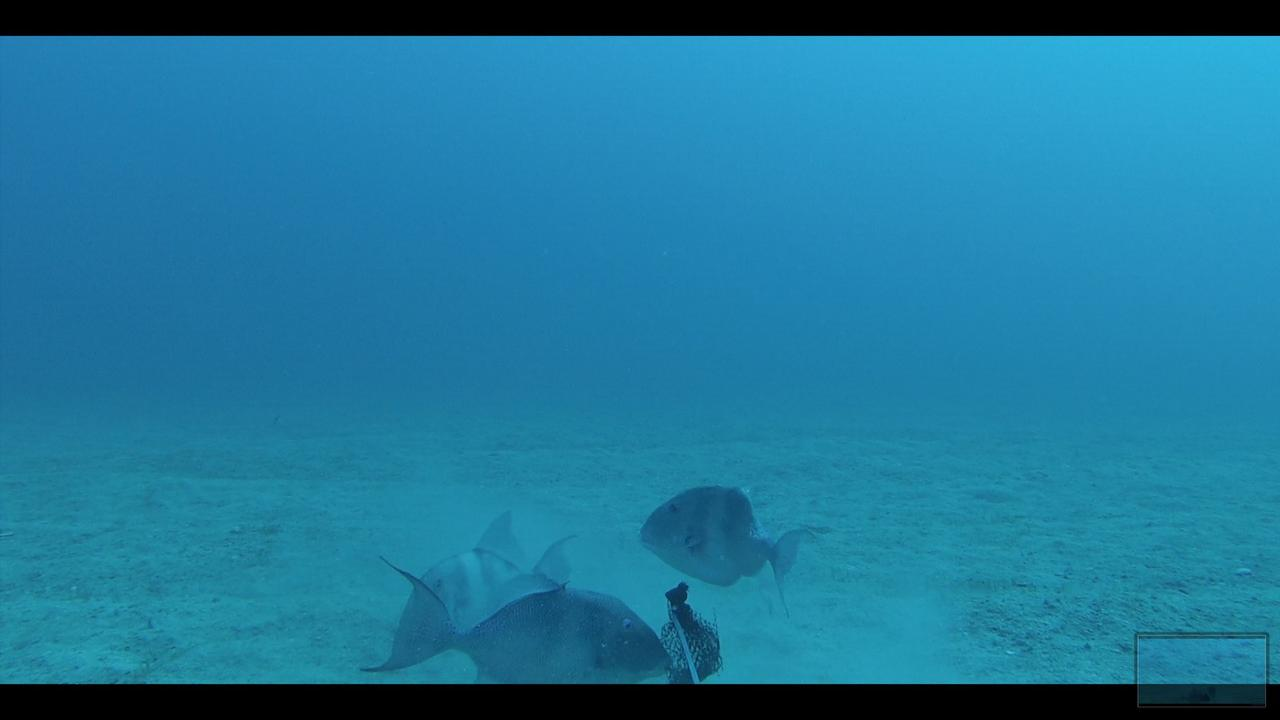balistes: (359, 556, 671, 682), (633, 467, 822, 621), (403, 510, 578, 633)
